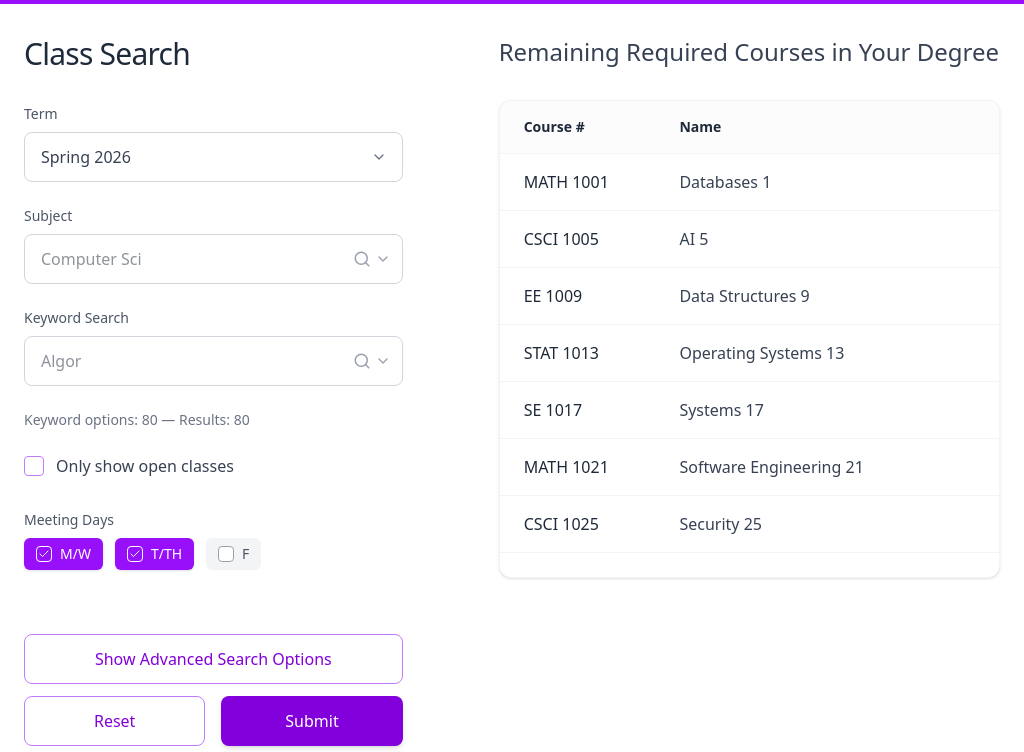
App UI and interactions › clicking Submit navigates to Search Results and shows table with rows
The image size is (1024, 752).
# Set subject to BS Computer Science so results are scoped
Type "BS Computer Science" into the field with placeholder "Computer Sci" at [213, 259], box [24,234,403,284]
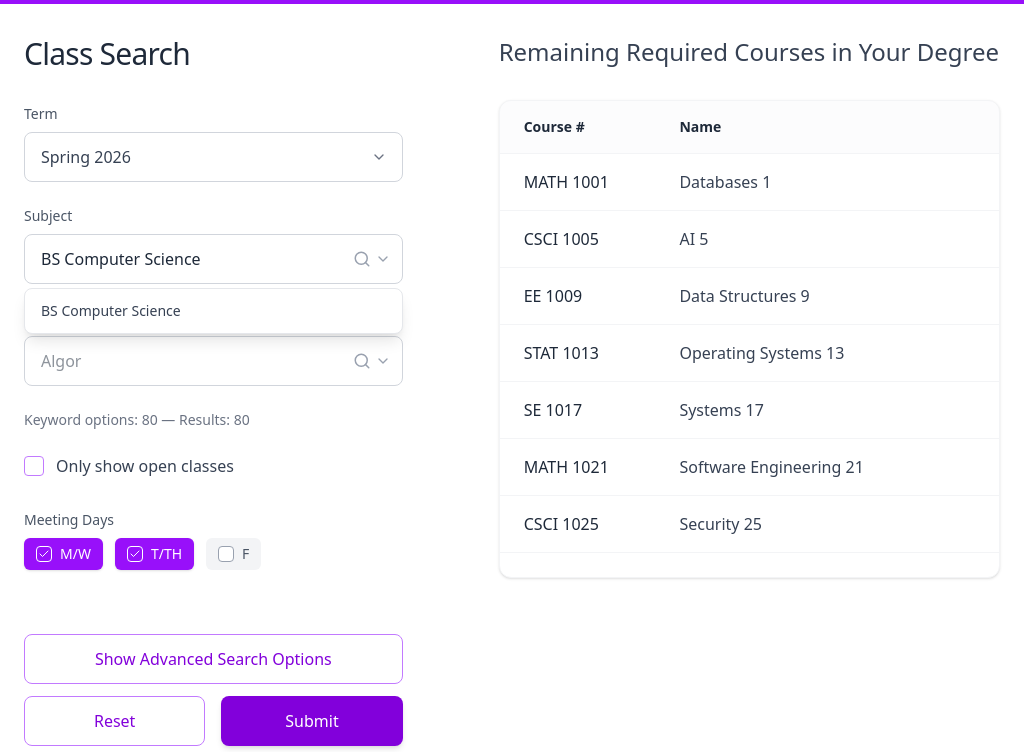
Click the text "BS Computer Science" at [111, 310], box [41,301,181,320]
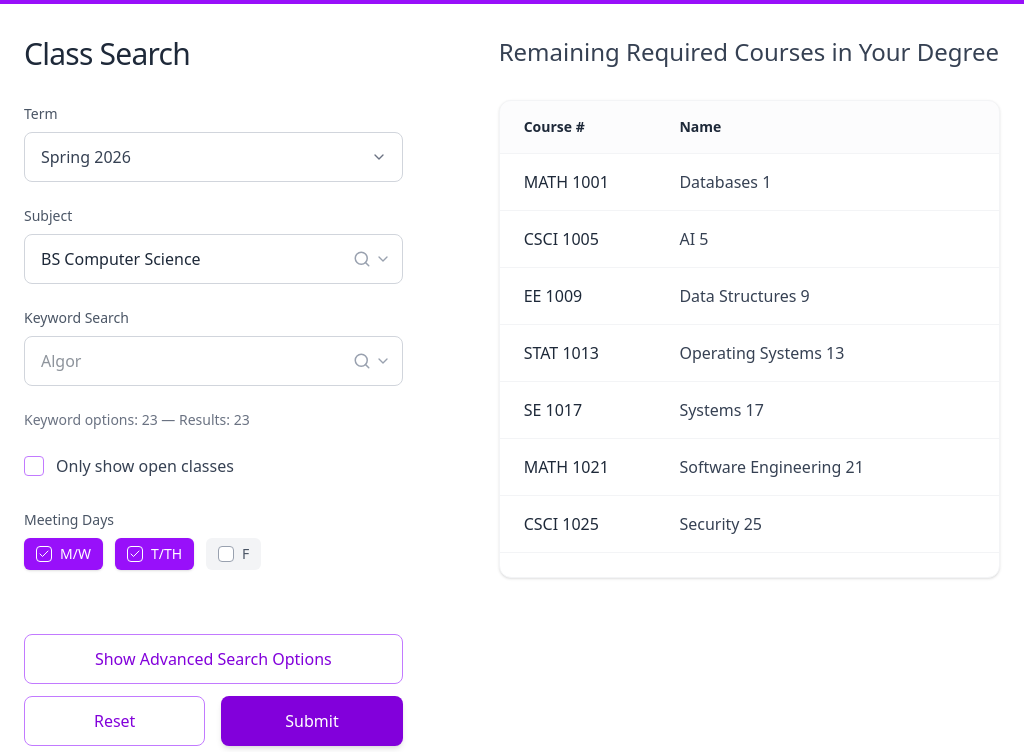
# Click Submit
Click the button "Submit" at [312, 721], box [221,696,403,746]
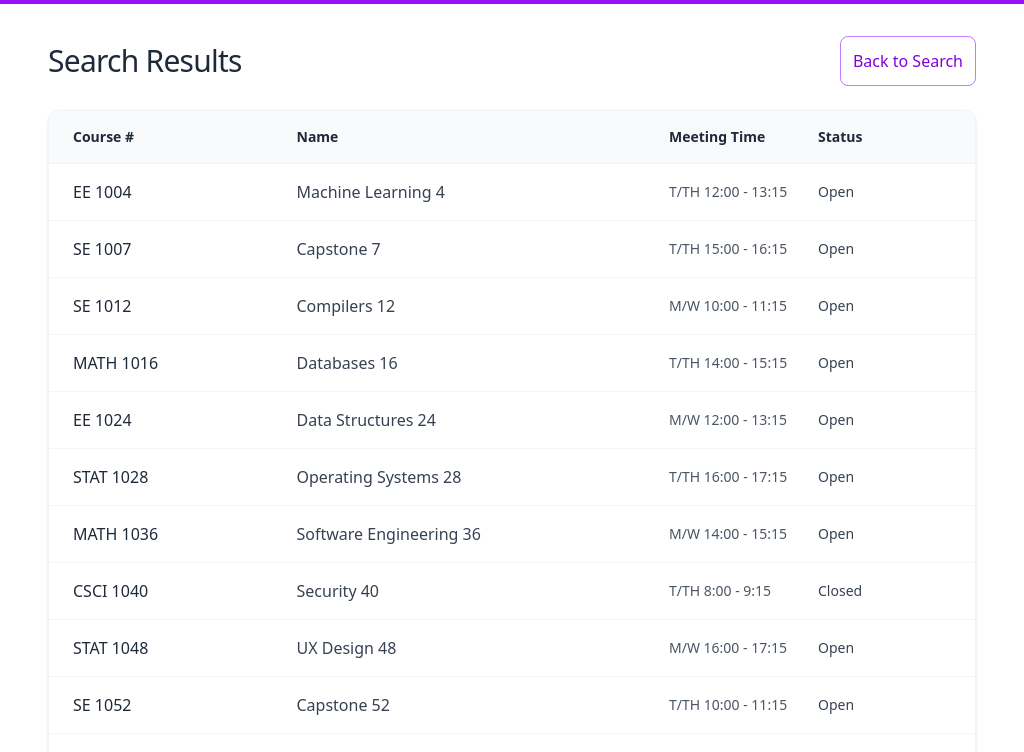
Check: the heading "Search Results" is shown, box [48,43,242,79]
Check: the text "Meeting Time" is shown, box [669,127,765,146]
Check: the text "Status" is shown, box [818,127,862,146]
